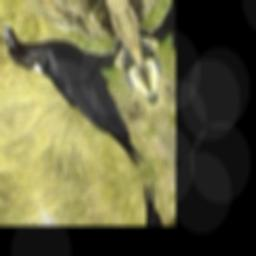Crow: (0, 0, 167, 210)
